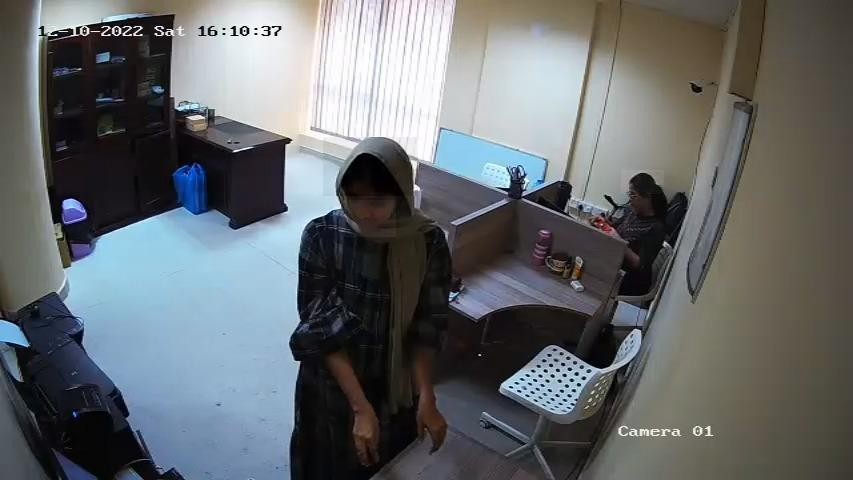no_apron: (348, 405, 388, 471), (410, 397, 448, 453)
no_gloves: (324, 138, 419, 196), (622, 170, 665, 194)
no_hairnet: (345, 200, 397, 237), (626, 194, 648, 212)
